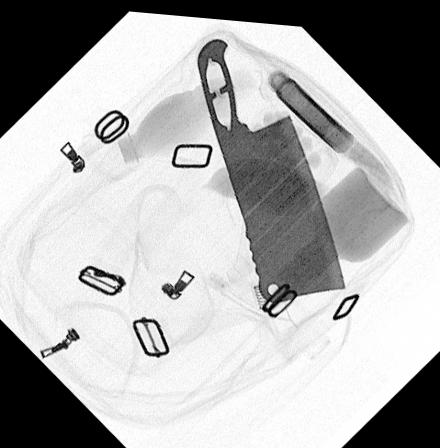Knife: (196, 34, 346, 298)
